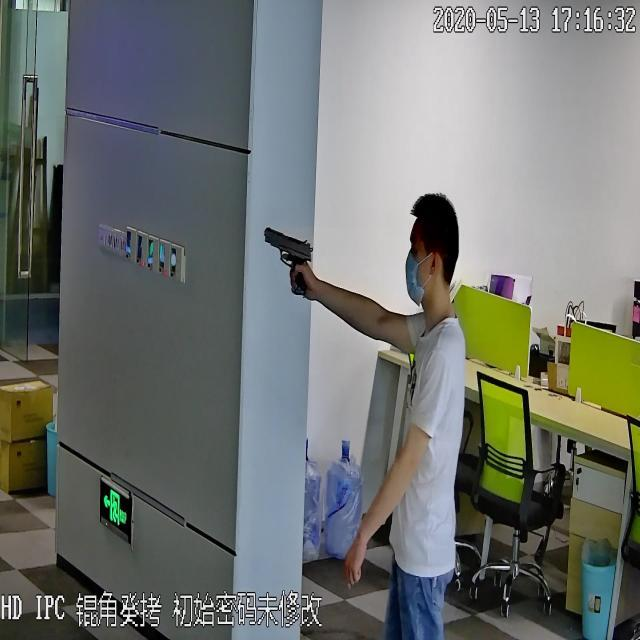gun: (261, 221, 313, 300)
